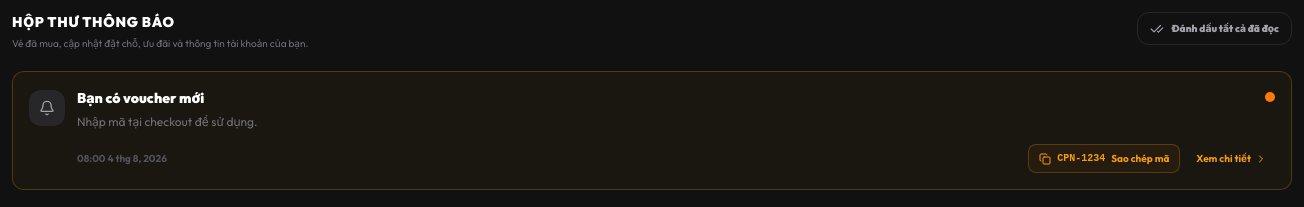
Test: CustomerNotificationCenter › copies a granted voucher code without opening the notification action
Click the button with aria-label "Sao chép mã voucher CPN-1234" at (1104, 158), box [1028,144,1180,173]
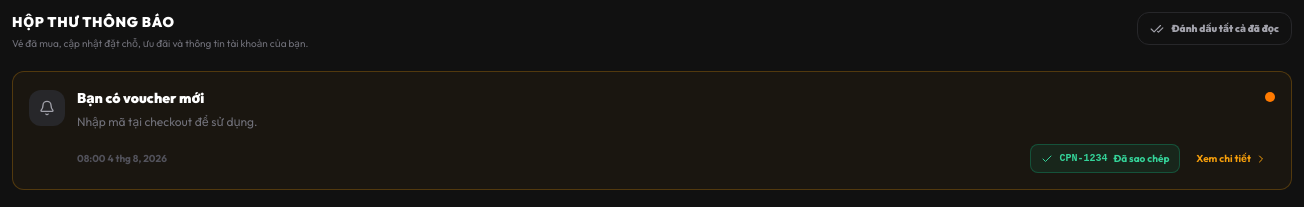
Result: the text "Đã sao chép" is shown at [1113,151,1169,166]
